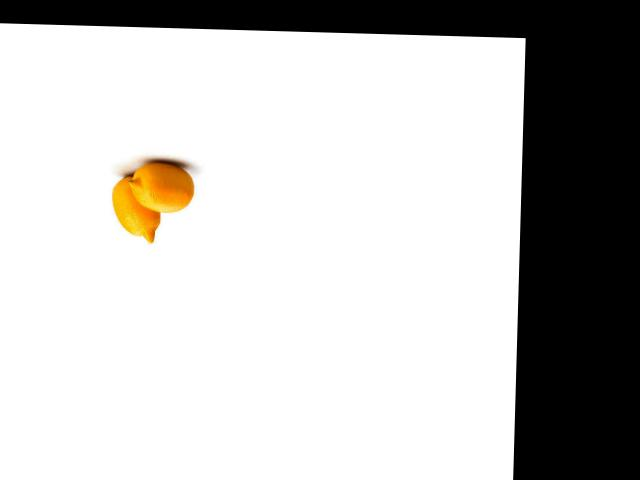lemon: (120, 166, 198, 214)
